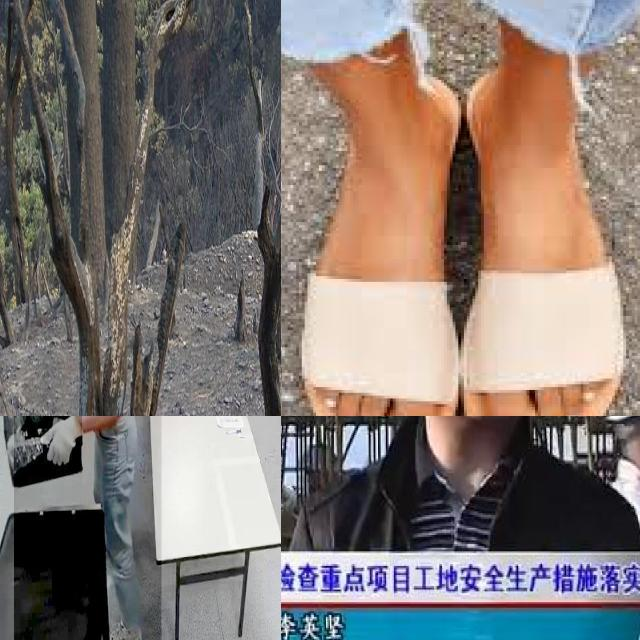Sandals: (464, 72, 627, 416), (301, 67, 457, 416)
hand_glove: (43, 416, 82, 474)
person: (14, 416, 162, 640)
shoes: (103, 612, 143, 640)
